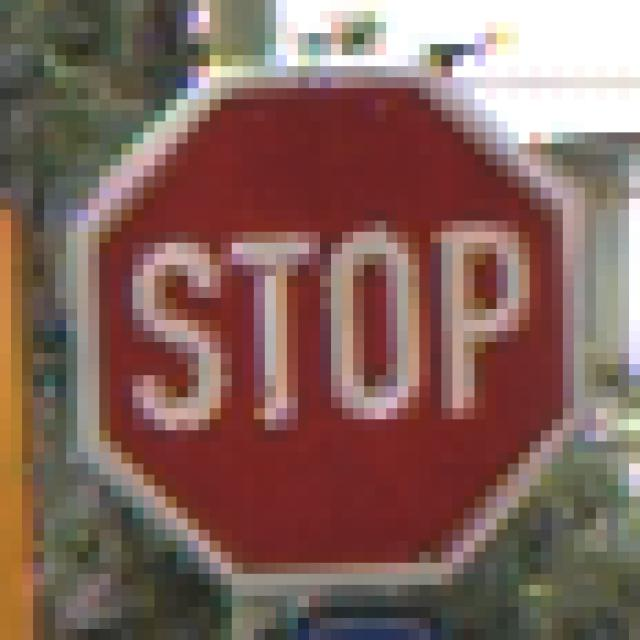STOP: (67, 56, 586, 586)
